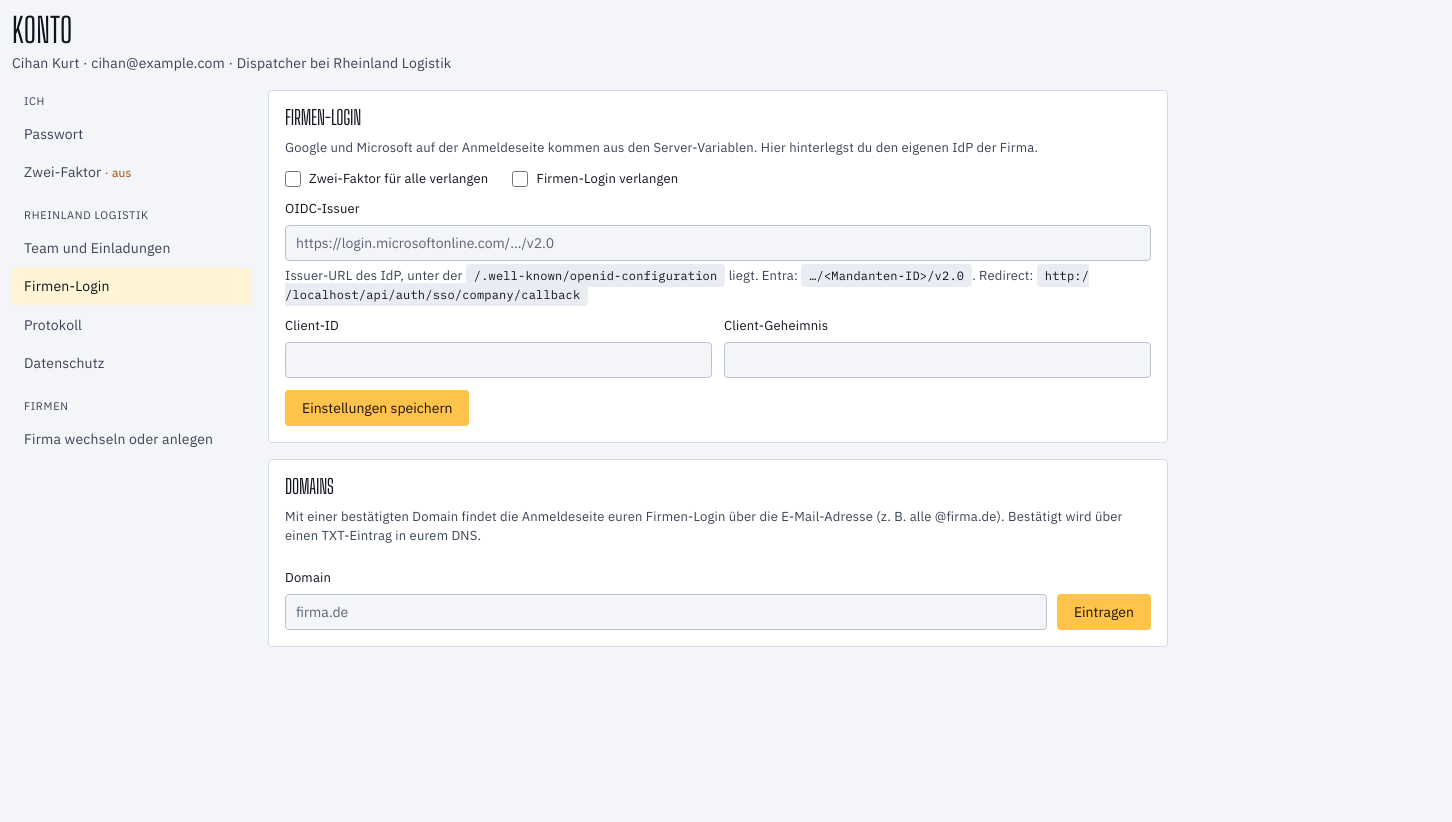
Test: account page › saves the company second-factor requirement
Click the checkbox labelled "Zwei-Faktor für alle verlangen" at (293, 179), box top-left (285, 171), bottom-right (301, 187)
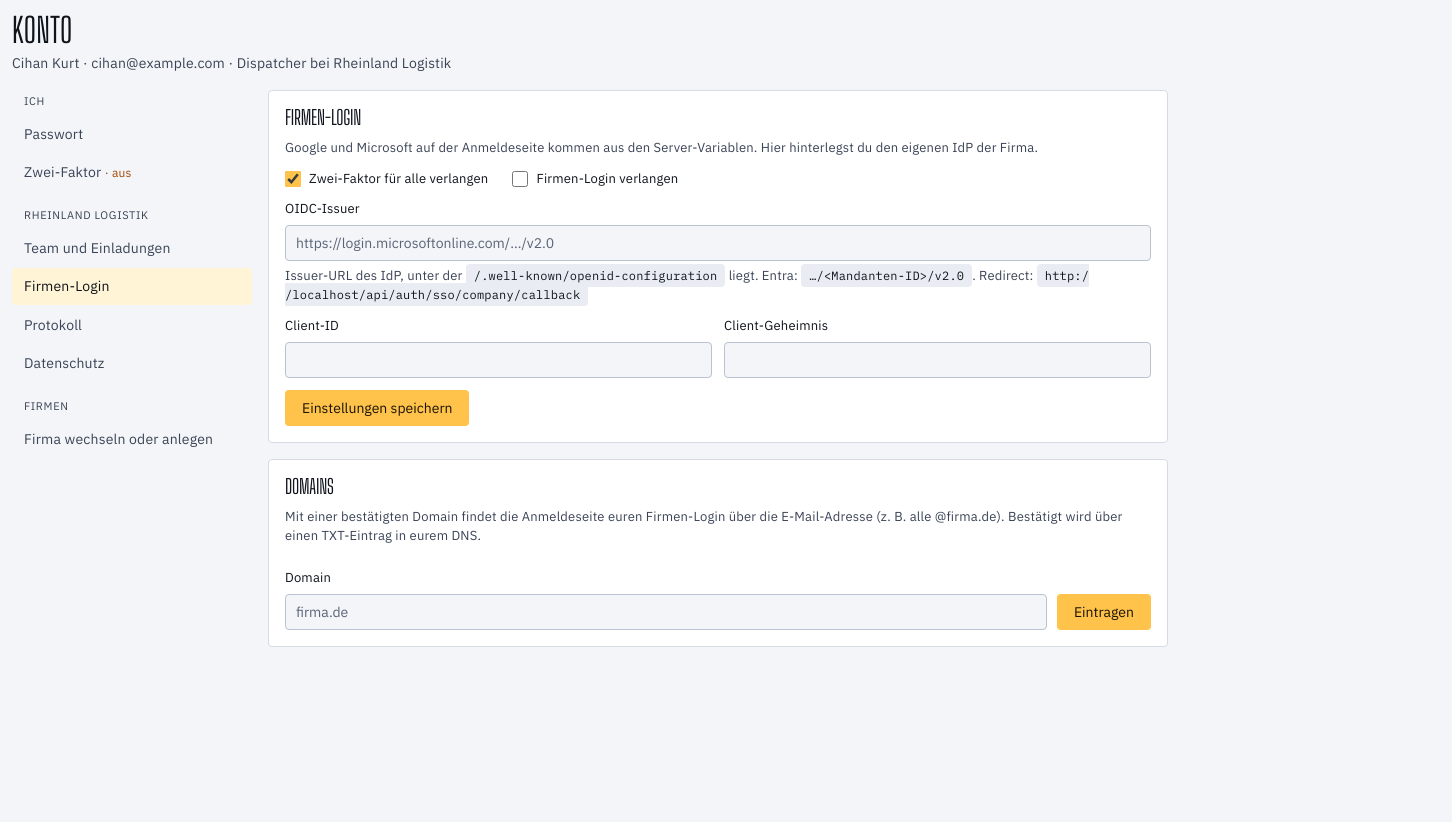
Type "https://idp.example" into the field labelled "OIDC-Issuer" at (718, 243), box top-left (285, 225), bottom-right (1151, 261)
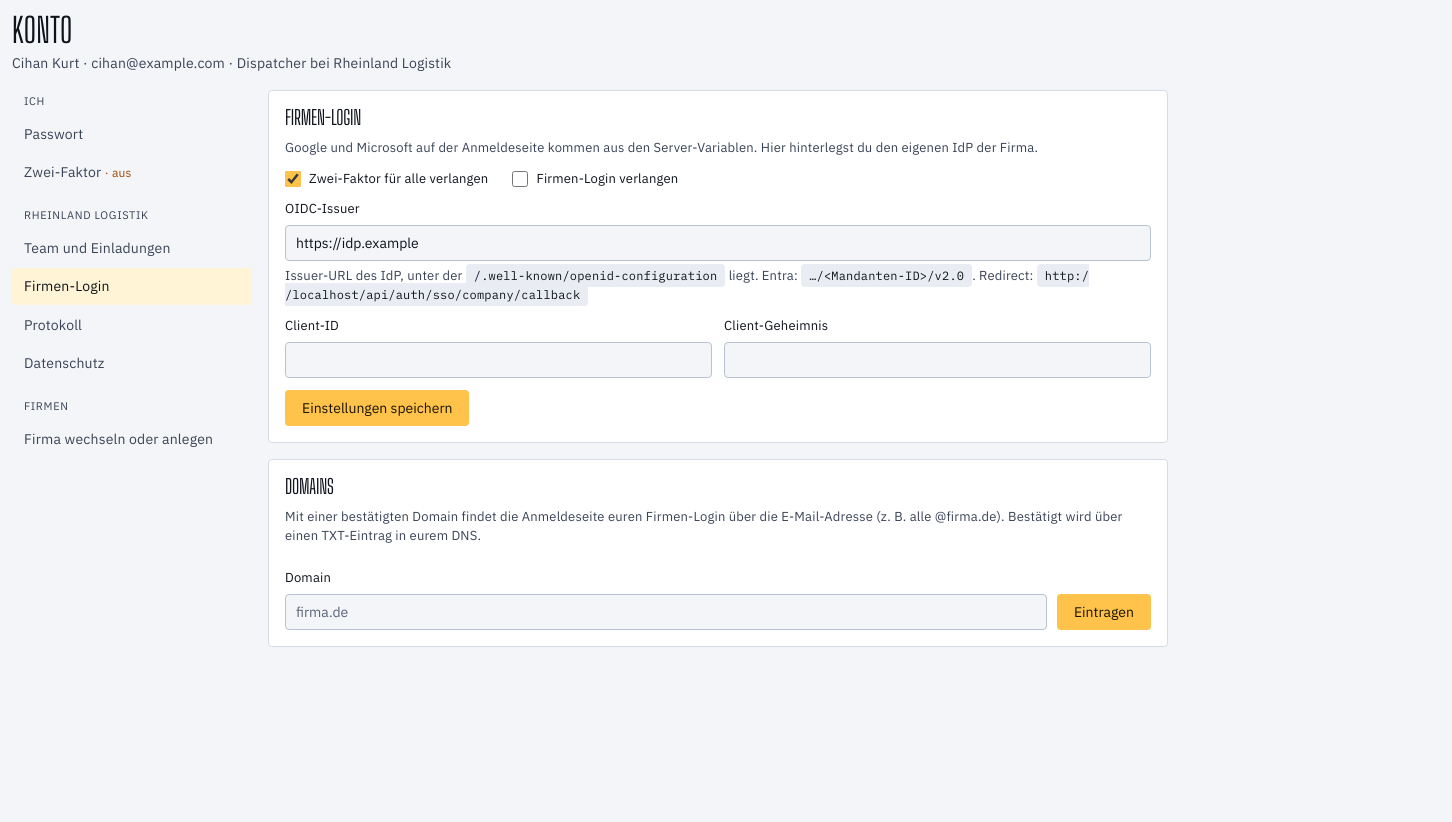
Type "client-id" into the field labelled "Client-ID" at (498, 360), box top-left (285, 342), bottom-right (712, 378)
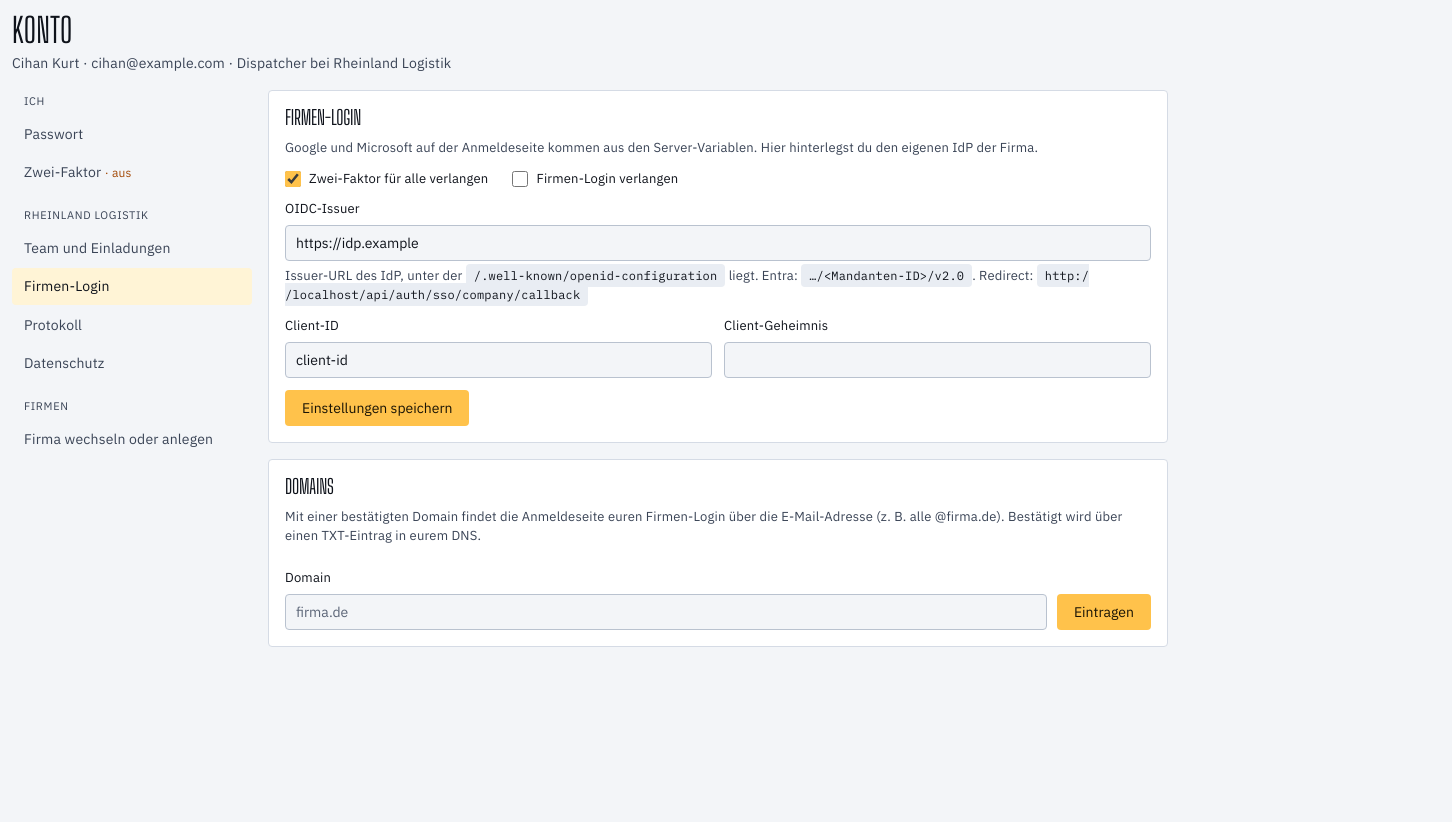
Type "secret-value" into the password field labelled "Client-Geheimnis" at (938, 360), box top-left (724, 342), bottom-right (1151, 378)
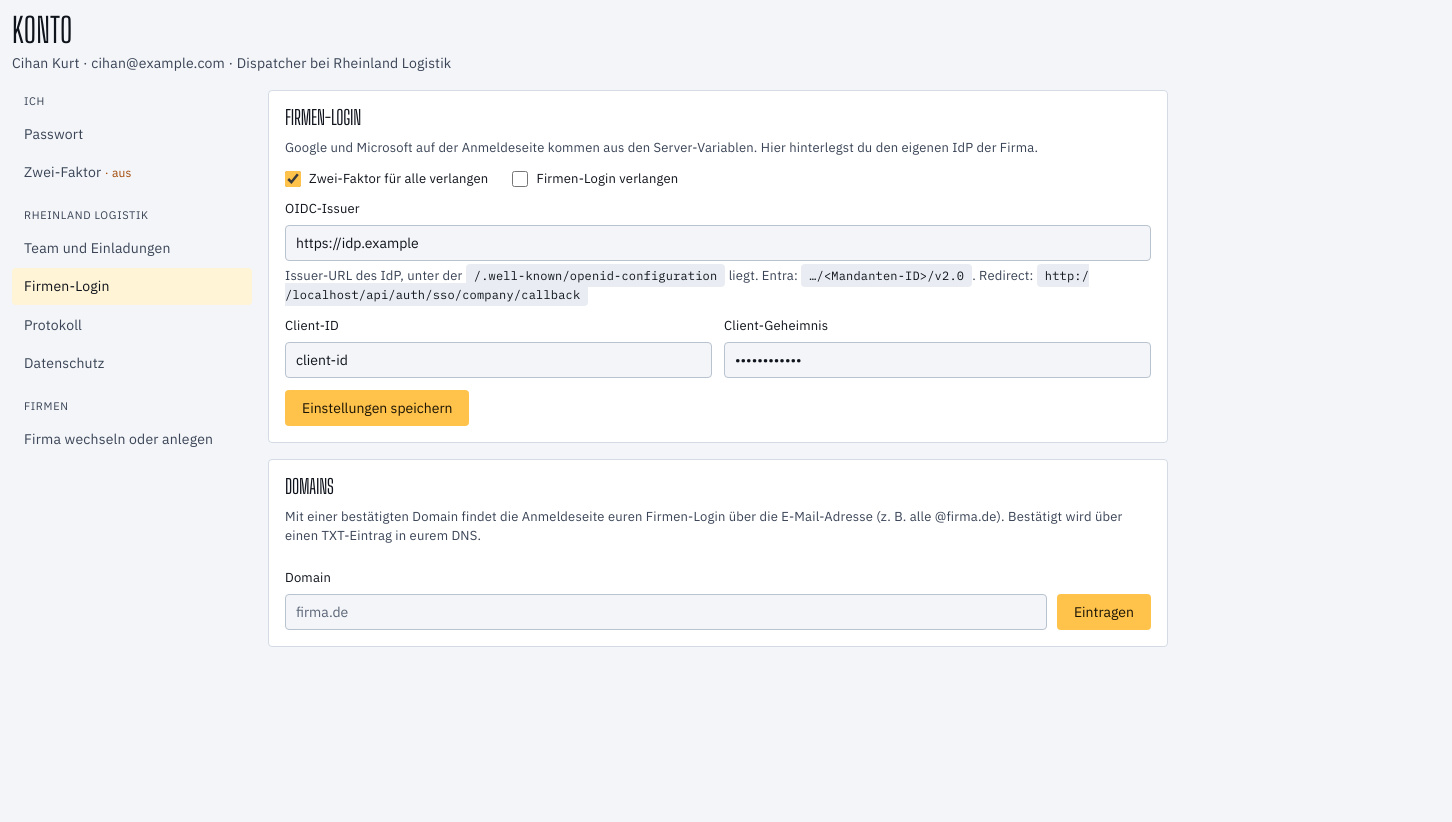
Submit the form named "Einstellungen speichern", box top-left (285, 139), bottom-right (1151, 426)
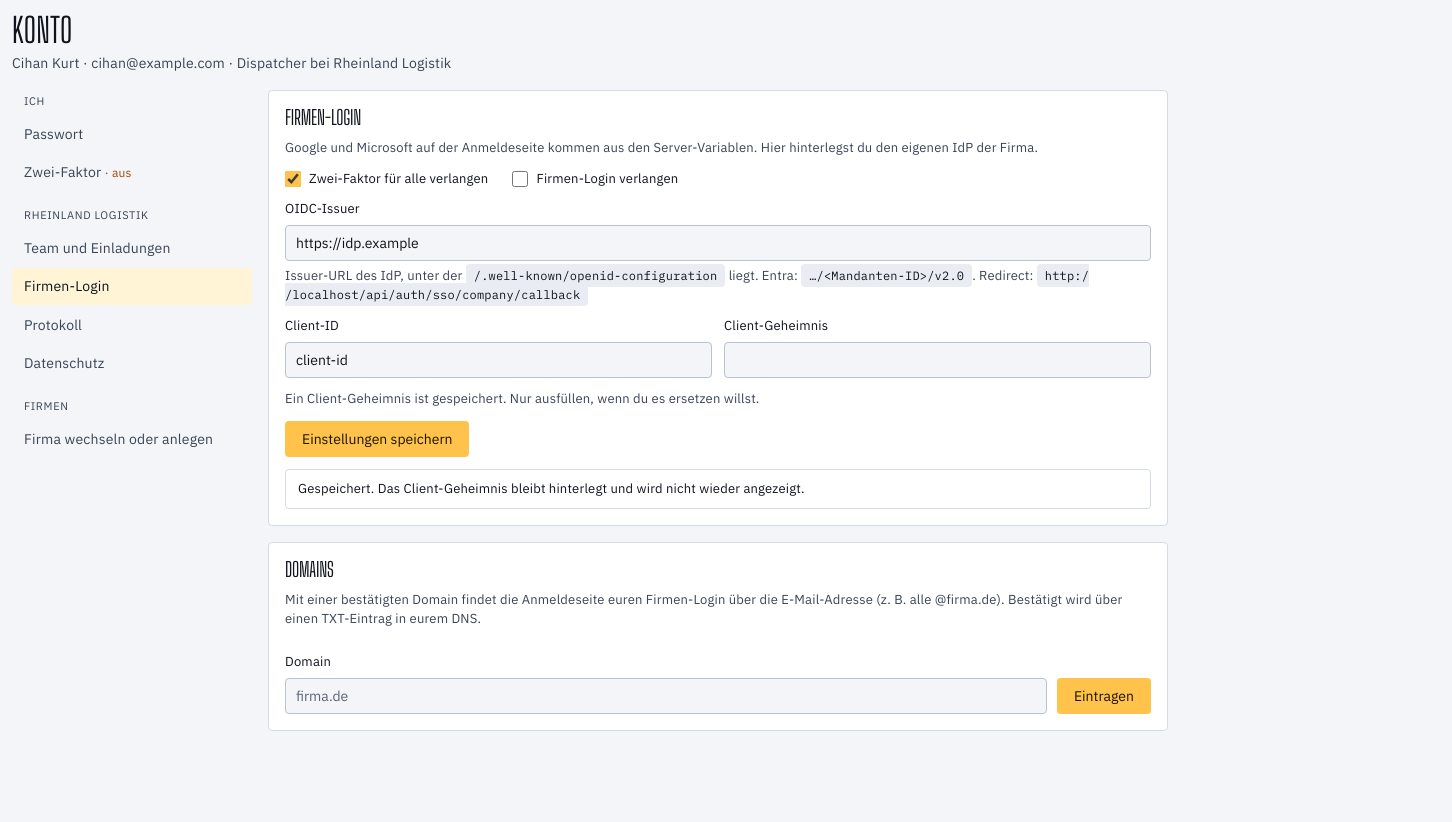
Now the message shows "Das Client-Geheimnis bleibt hinterlegt", box top-left (298, 480), bottom-right (805, 497)
Now the password field labelled "Client-Geheimnis" is empty, box top-left (724, 342), bottom-right (1151, 378)
